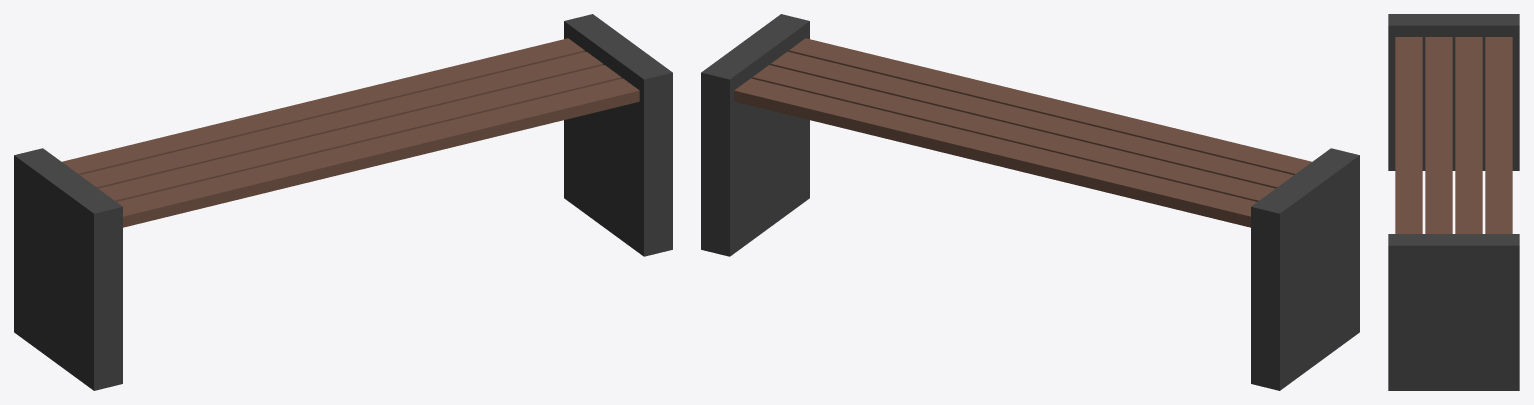
File: SM_Props_Bench_01.fbx
3 views of the same model, side by side, from view 1: azimuth 30°, elevation 25°; view 2: azimuth 150°, elevation 25°; view 3: azimuth 270°, elevation 25° (orthographic). The views are drawn at different scales.
Parts seen in each view (by area): view 1: SM_Props_Bench_01; view 2: SM_Props_Bench_01; view 3: SM_Props_Bench_01.
Boxes of the visible parts, x1,y1,x2,y2 form: SM_Props_Bench_01: (14,14,672,390); SM_Props_Bench_01: (701,14,1359,390); SM_Props_Bench_01: (1388,14,1519,390).
Size of the model in its own units: 1.71 by 0.5 by 0.4095.
